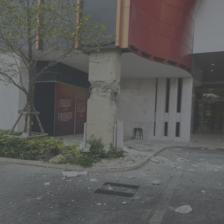High: (84, 72, 121, 132)
